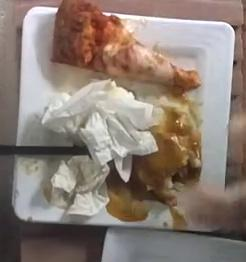pizza: (53, 1, 201, 94)
pork: (132, 96, 201, 206)
